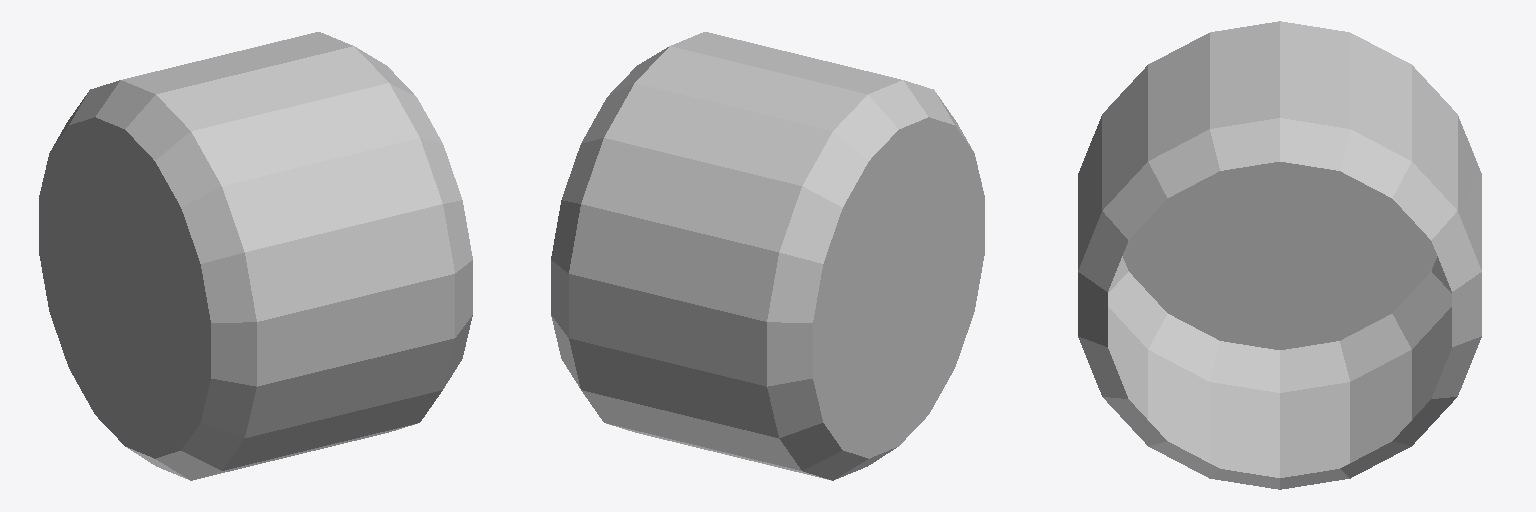
File: Tire back right unwrapped.obj
3 views of the same model, side by side, from view 1: azimuth 30°, elevation 25°; view 2: azimuth 150°, elevation 25°; view 3: azimuth 270°, elevation 25° (orthographic).
Visible parts, largest first — view 1: CarWorldfullTireBackRight; view 2: CarWorldfullTireBackRight; view 3: CarWorldfullTireBackRight.
Boxes of the visible parts, x1=… form: CarWorldfullTireBackRight: x1=39, y1=32, x2=472, y2=480; CarWorldfullTireBackRight: x1=551, y1=32, x2=984, y2=480; CarWorldfullTireBackRight: x1=1078, y1=21, x2=1481, y2=489.
Bounding box in the file's own units: 25.27 × 34.28 × 33.76.